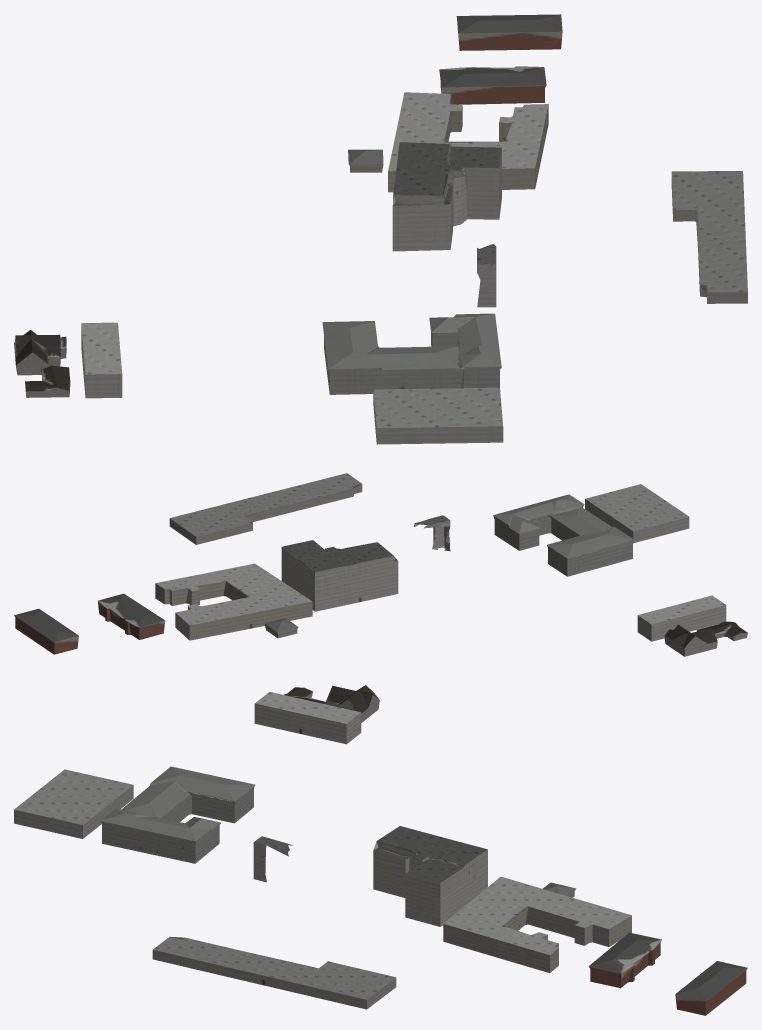
The model's file is t_4_-3.coat.glb.
The picture shows the model from 3 angles, top to bottom: view 1: azimuth 30°, elevation 25°; view 2: azimuth 150°, elevation 25°; view 3: azimuth 270°, elevation 25°; orthographic projection. The views are drawn at different scales.
Visible parts, largest first — view 1: far; view 2: far; view 3: far.
Boxes of the visible parts, left/top/right/bottom form: far: left=14, top=14, right=747, bottom=444; far: left=14, top=473, right=747, bottom=656; far: left=14, top=685, right=747, bottom=1015.
Bounding box in the file's own units: 267 × 18.02 × 257.
Materials: 1 (1 with a texture image).
